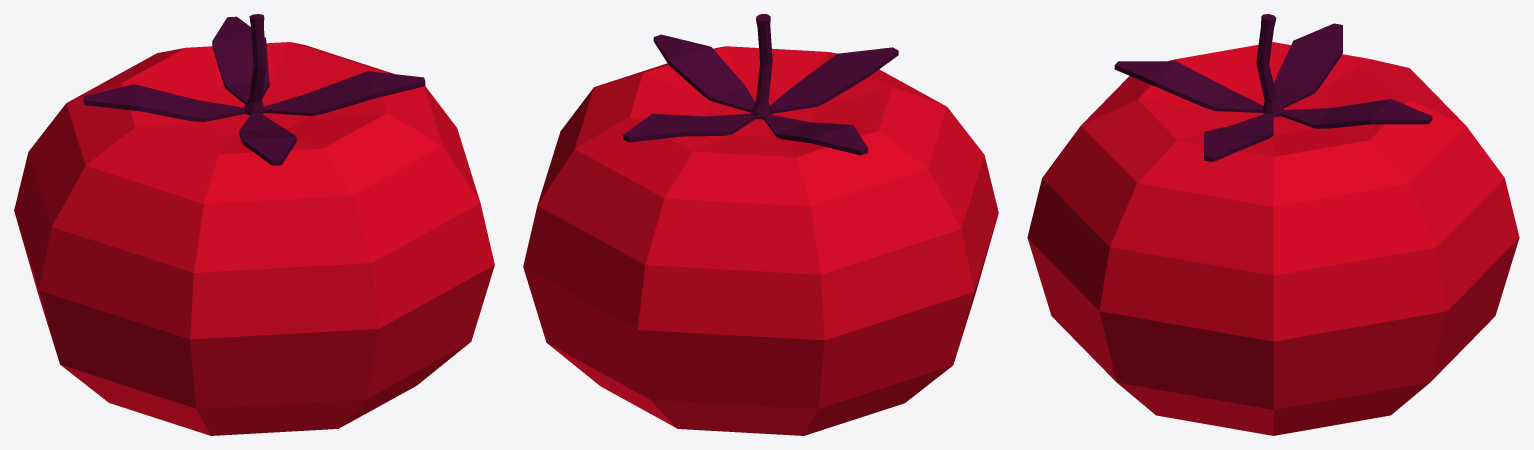
The model's file is Tomato_02.fbx.
3 renders of one model, left to right at view 1: azimuth 30°, elevation 25°; view 2: azimuth 150°, elevation 25°; view 3: azimuth 270°, elevation 25°, orthographic.
Parts seen in each view (by area): view 1: Tomato_02; view 2: Tomato_02; view 3: Tomato_02.
Part boxes in pixels (<box>): Tomato_02: <box>14,14,494,435</box>; Tomato_02: <box>523,14,998,435</box>; Tomato_02: <box>1027,14,1519,435</box>.
Bounding box in the file's own units: 5.95 × 4.73 × 5.95.
